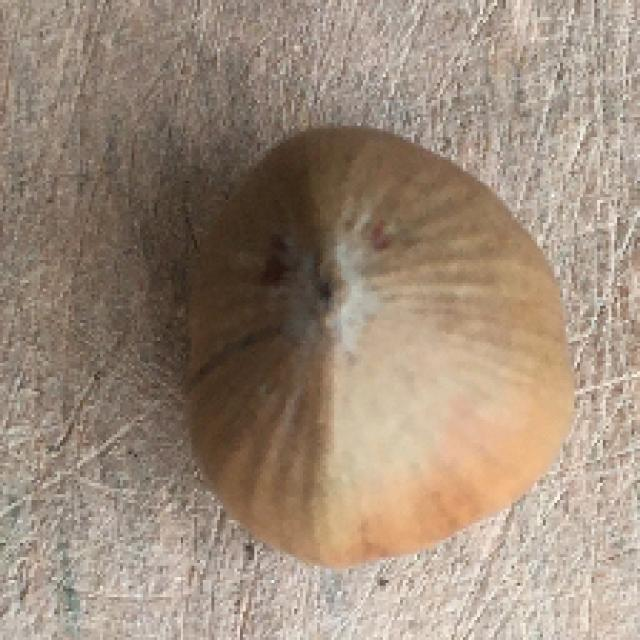damagedHazelnut: (183, 116, 582, 564)
